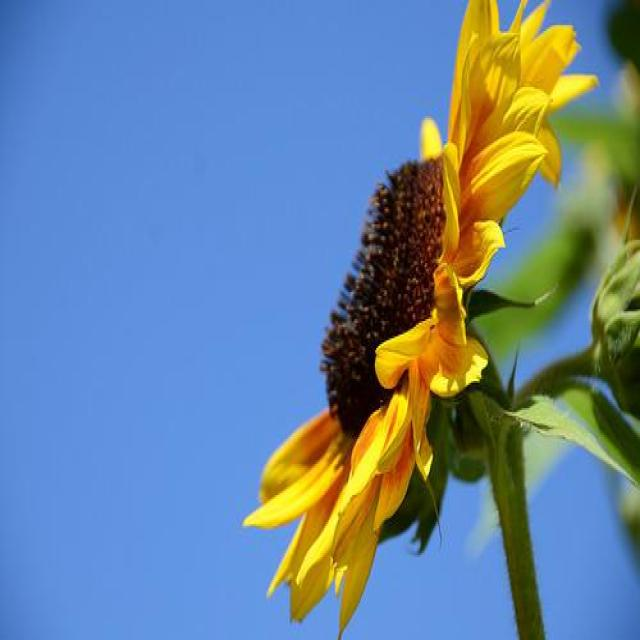sunflower: (244, 0, 601, 638)
